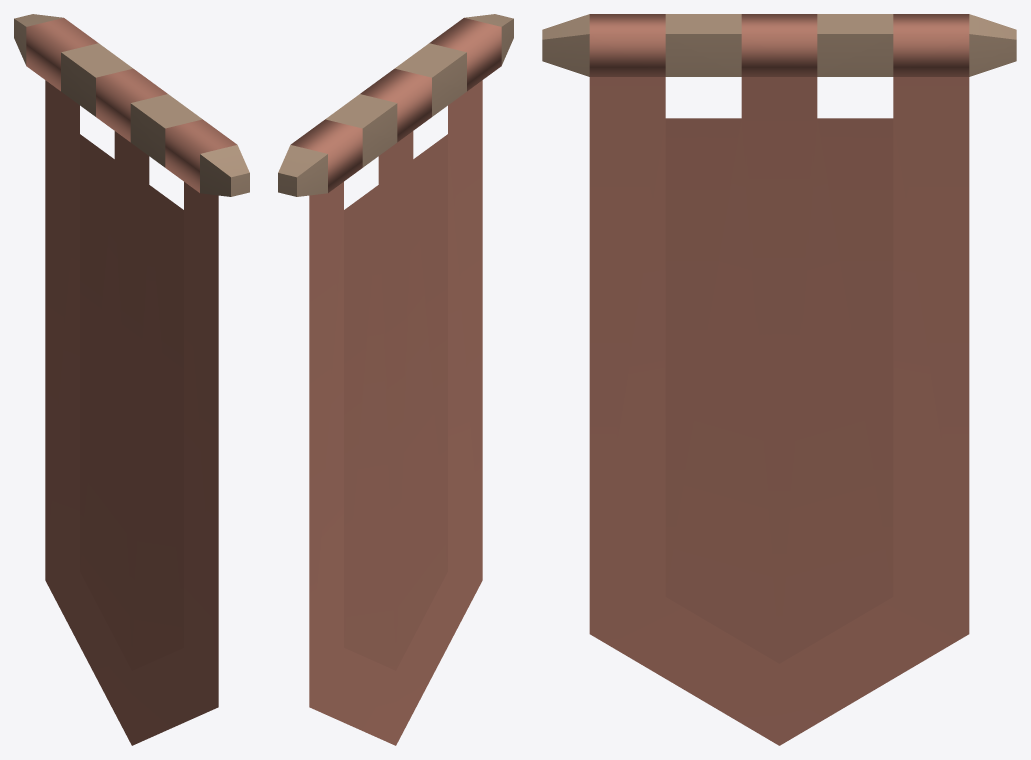
The model's file is banner.glb.
The picture shows the model from 3 angles, left to right: view 1: azimuth 30°, elevation 25°; view 2: azimuth 150°, elevation 25°; view 3: azimuth 270°, elevation 25°; orthographic projection. The views are drawn at different scales.
Parts seen in each view (by area): view 1: banner; view 2: banner; view 3: banner.
Part boxes in pixels (x1=…): banner: x1=14, y1=14, x2=249, y2=745; banner: x1=278, y1=14, x2=513, y2=745; banner: x1=542, y1=14, x2=1016, y2=745.
Size of the model in its own units: 0.1906 by 3.2 by 1.91.
